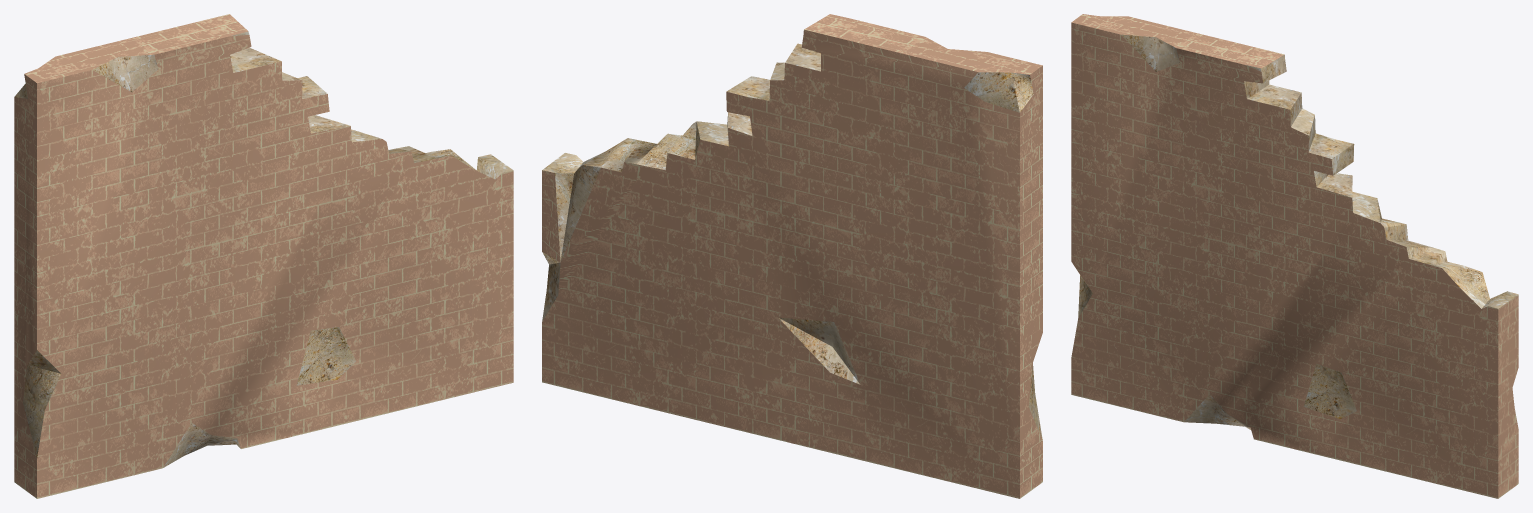
File: SM_Wall_01_Damaged_01.FBX
3 views of the same model, side by side, from view 1: azimuth 30°, elevation 25°; view 2: azimuth 150°, elevation 25°; view 3: azimuth 330°, elevation 25° (orthographic). The views are drawn at different scales.
Visible parts, largest first — view 1: SM_Wall_01_Damaged_01; view 2: SM_Wall_01_Damaged_01; view 3: SM_Wall_01_Damaged_01.
Boxes of the visible parts, bbox=[...] form: SM_Wall_01_Damaged_01: bbox=[14, 14, 513, 498]; SM_Wall_01_Damaged_01: bbox=[542, 14, 1042, 498]; SM_Wall_01_Damaged_01: bbox=[1071, 14, 1518, 498].
Bounding box in the file's own units: 6 × 5 × 0.5.
